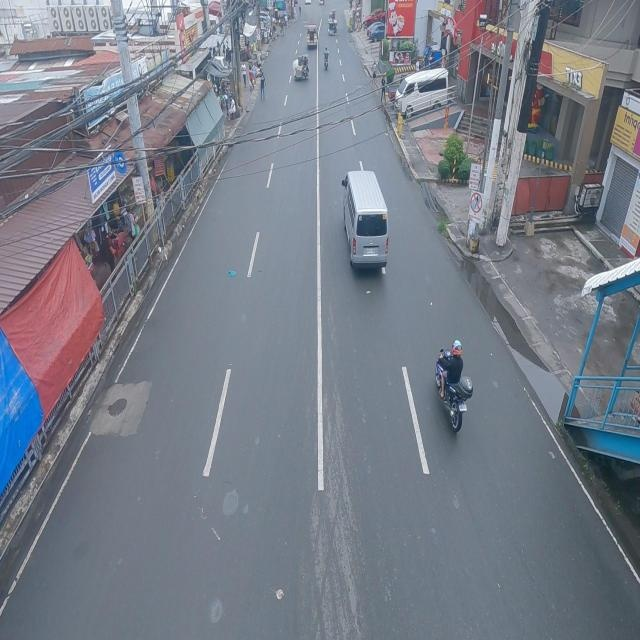Van: (343, 169, 389, 275)
